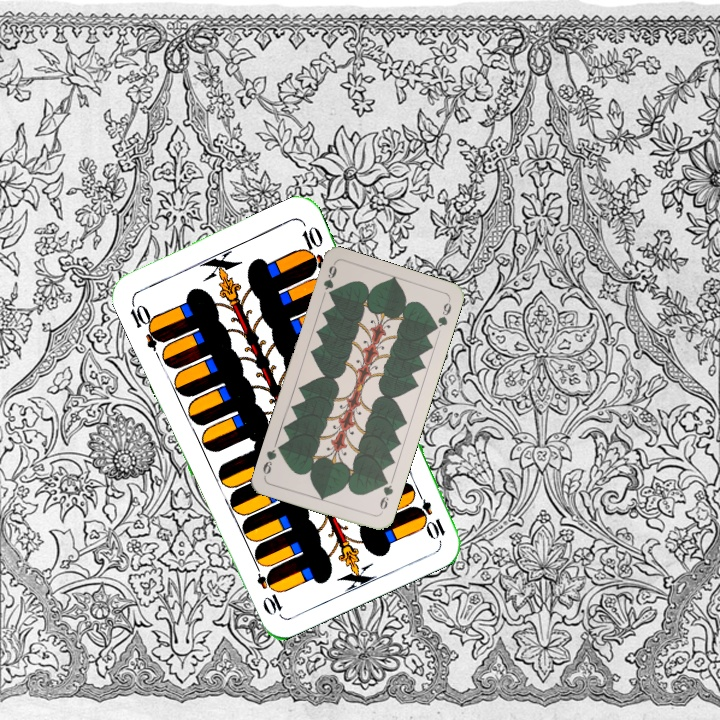E10: (126, 296, 167, 352), (410, 485, 448, 541)
G9: (319, 260, 339, 299), (376, 475, 396, 512)
